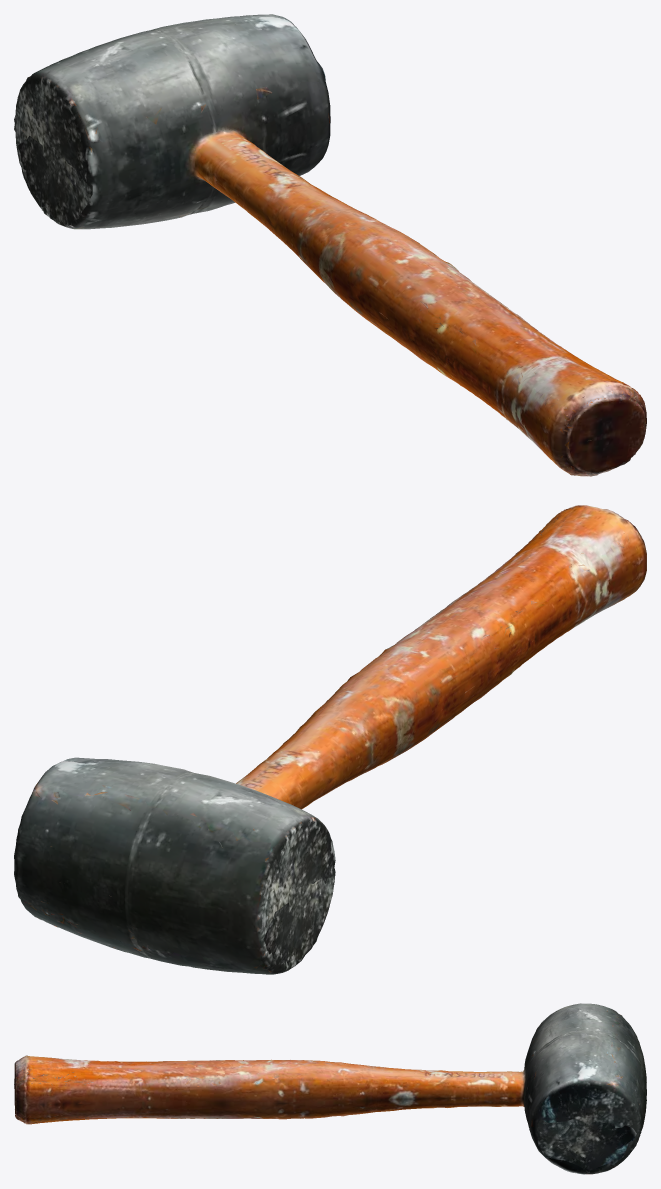
The model's file is mallet.glb.
3 renders of one model, top to bottom at view 1: azimuth 30°, elevation 25°; view 2: azimuth 150°, elevation 25°; view 3: azimuth 270°, elevation 25°, orthographic. The views are drawn at different scales.
Parts seen in each view (by area): view 1: Object_2; view 2: Object_2; view 3: Object_2.
Part boxes in pixels (box(x1,y1,x2,y2)): Object_2: box(14, 14, 646, 476); Object_2: box(14, 505, 646, 974); Object_2: box(14, 1003, 646, 1174).
Size of the model in its own units: 0.5921 by 0.397 by 2.
Materials: 1 (1 with a texture image).
